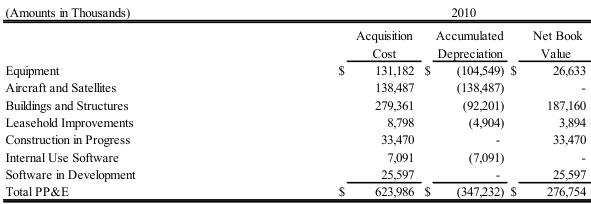table: (4, 4, 585, 198)
table column: (4, 4, 236, 198), (236, 4, 418, 198), (418, 4, 506, 198), (506, 4, 585, 198)
table column header: (4, 4, 585, 61)
table row: (4, 23, 585, 61), (4, 4, 585, 23), (4, 112, 585, 130), (4, 164, 585, 182), (4, 61, 585, 78), (4, 78, 585, 95), (4, 95, 585, 112), (4, 130, 585, 147), (4, 147, 585, 164), (4, 182, 585, 198)
table spanning cell: (236, 4, 585, 23)
